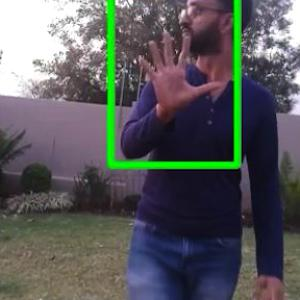follow_hand: (135, 25, 227, 115)
